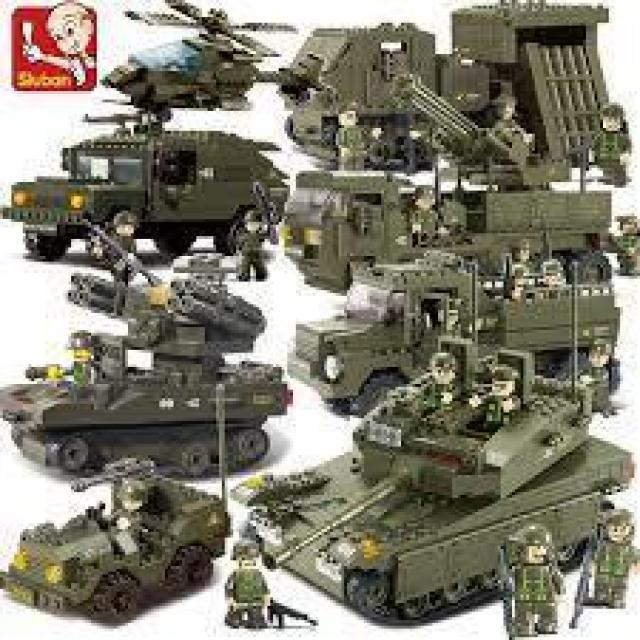Tanks: (307, 360, 632, 613), (303, 2, 619, 180), (2, 332, 274, 456), (7, 479, 223, 602)
